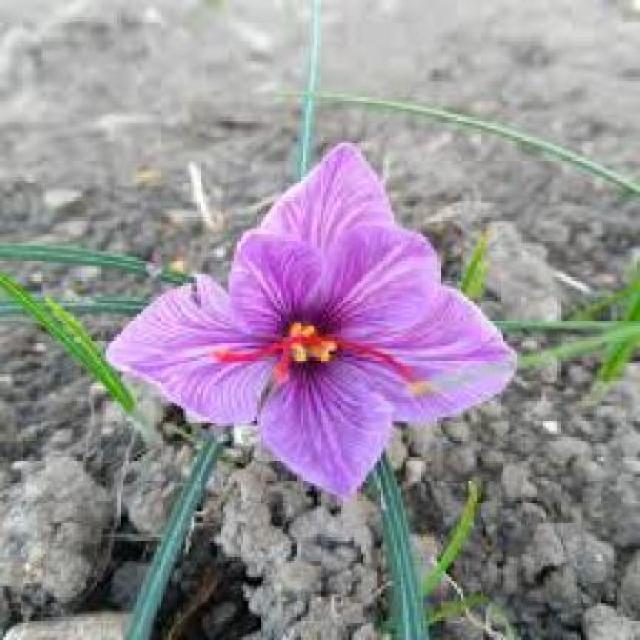Flower: (115, 142, 511, 496)
stigma: (317, 337, 425, 383), (211, 334, 301, 366), (270, 338, 295, 384)
